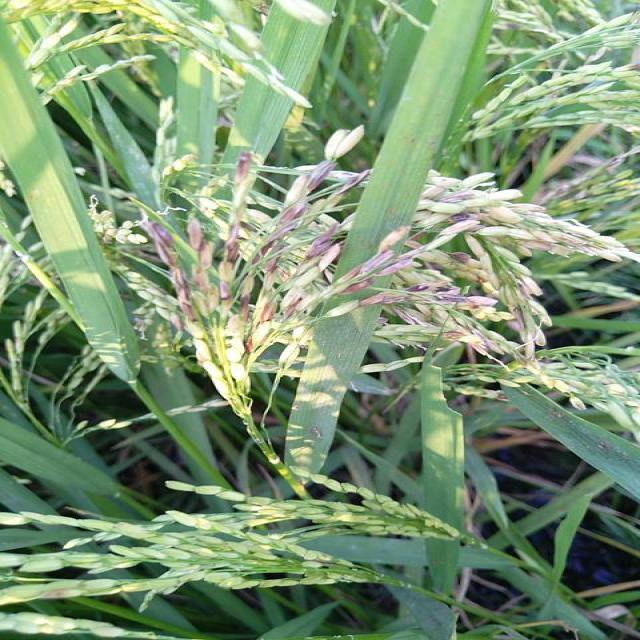Panicle Blight: (240, 162, 335, 321), (321, 284, 499, 326), (217, 152, 261, 317), (332, 227, 423, 294), (151, 223, 195, 322), (413, 250, 500, 295), (499, 224, 604, 257), (296, 224, 351, 276), (188, 220, 219, 307), (508, 299, 549, 359), (441, 327, 489, 356), (439, 197, 495, 221), (21, 585, 88, 602), (256, 293, 281, 326), (337, 171, 371, 194), (157, 45, 191, 66), (243, 333, 264, 363), (284, 298, 308, 316)
